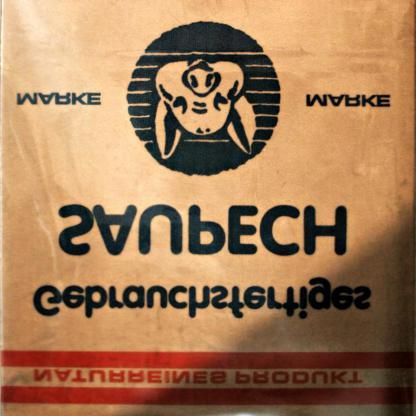boar: (152, 55, 257, 160)
